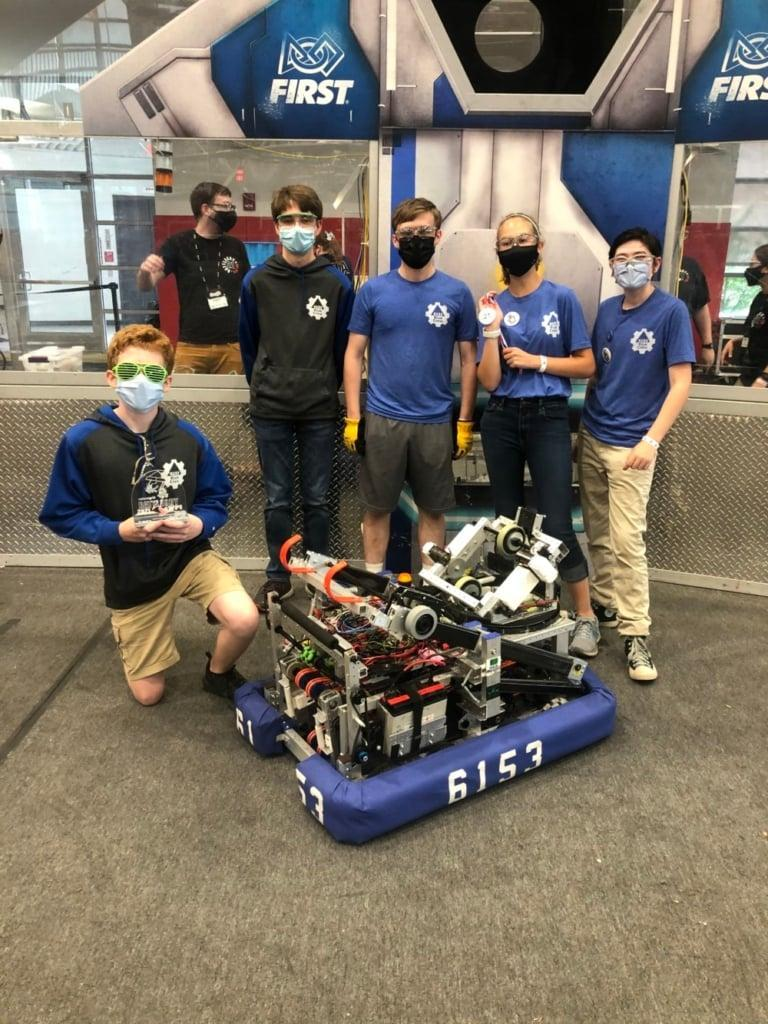robot: (229, 507, 626, 859)
